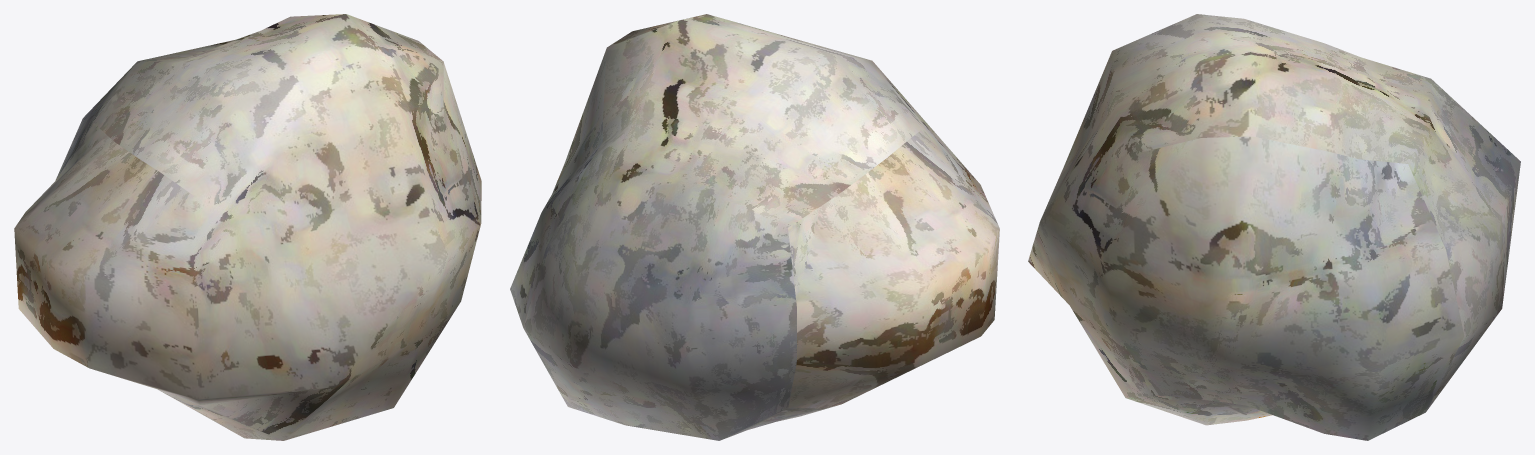
Rendered from rock41.fbx.
3 renders of one model, left to right at view 1: azimuth 30°, elevation 25°; view 2: azimuth 150°, elevation 25°; view 3: azimuth 270°, elevation 25°, orthographic. The views are drawn at different scales.
Visible parts, largest first — view 1: pCube5; view 2: pCube5; view 3: pCube5.
Boxes of the visible parts, x1,y1,x2,y2 form: pCube5: (14,14,481,440); pCube5: (510,14,999,440); pCube5: (1028,14,1520,440).
Size of the model in its own units: 5.36 by 4.56 by 5.3.
